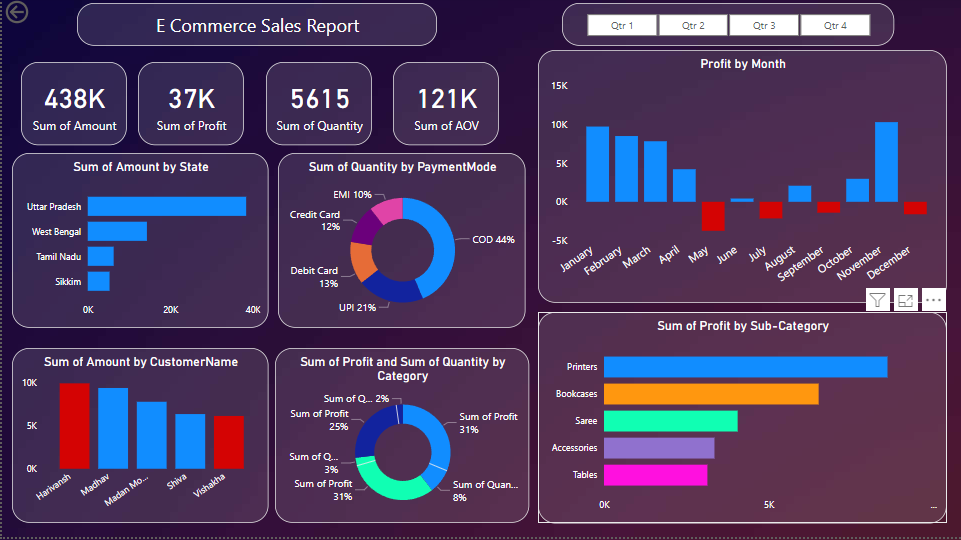

This screenshot's page, from the dashboard's own definition file:
{"tool":"powerbi","page":{"name":"Page 1","canvas":[1280,720],"ordinal":0},"visuals":[{"type":"columnChart","title":"Profit by Month","fields":{"Y":["Detail.Profit"],"Category":["Orders.Order Date.Variation.Date Hierarchy.Month"]},"box":[714.7,70.5,545.2,337.2],"z":0},{"type":"barChart","fields":{"Category":["Detail.Sub-Category"],"Y":["Detail.Profit"]},"box":[714.7,419.4,545.2,281.8],"z":1000},{"type":"donutChart","fields":{"Category":["Detail.PaymentMode","Detail.Category"],"Y":["Detail.Quantity"]},"box":[367.4,208,330.5,233.2],"z":2000},{"type":"barChart","fields":{"Category":["Orders.State"],"Y":["Detail.Amount"]},"box":[13.4,208,342.2,233.2],"z":3000},{"type":"card","fields":{"Values":["Detail.Amount"]},"box":[25.2,87.2,140.9,110.7],"z":4000},{"type":"card","fields":{"Values":["Detail.Profit"]},"box":[181.2,87.2,140.9,110.7],"z":5000},{"type":"card","fields":{"Values":["Detail.Quantity"]},"box":[352.3,87.2,140.9,110.7],"z":6000},{"type":"card","fields":{"Values":["Detail.AvgOrder"]},"box":[521.7,87.2,140.9,110.7],"z":7000},{"type":"donutChart","fields":{"Category":["Detail.Category"],"Y":["Detail.Profit","Detail.Quantity"]},"box":[364,468,338.9,233.2],"z":8000},{"type":"columnChart","fields":{"Category":["Orders.CustomerName"],"Y":["Detail.Amount"]},"box":[13,468,342,233],"z":9000},{"type":"slicer","fields":{"Values":["Orders.Order Date.Variation.Date Hierarchy.Quarter"]},"box":[746.5,8.4,442.9,57],"z":10000},{"type":"textbox","box":[100.7,8.4,479.8,57],"z":11000},{"type":"actionButton","box":[0,0,100,40],"z":12000}]}

Visuals, with their boxes in screenshot pixels (x1, y1, x2, y2), scaled from the page's 1280x720 canvas onto the 961x540 screenshot:
"Profit by Month" columnChart: 537 53 946 306
barChart - Detail.Sub-Category x Detail.Profit: 537 315 946 526
donutChart - Detail.PaymentMode x Detail.Category: 276 156 524 331
barChart - Orders.State x Detail.Amount: 10 156 267 331
card - Detail.Amount: 19 65 125 148
card - Detail.Profit: 136 65 242 148
card - Detail.Quantity: 265 65 370 148
card - Detail.AvgOrder: 392 65 497 148
donutChart - Detail.Category x Detail.Profit: 273 351 528 526
columnChart - Orders.CustomerName x Detail.Amount: 10 351 267 526
slicer - Orders.Order Date.Variation.Date Hierarchy.Quarter: 560 6 893 49
textbox: 76 6 436 49
actionButton: 0 0 75 30
